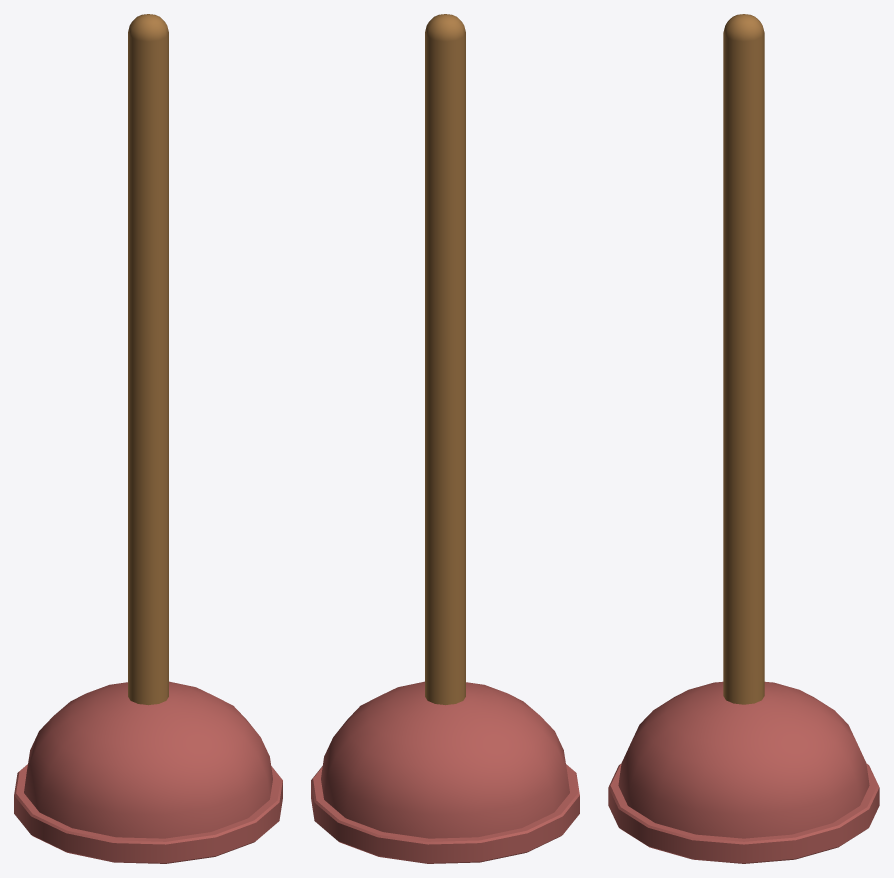
The model's file is Plunger_New.fbx.
The picture shows the model from 3 angles, left to right: view 1: azimuth 30°, elevation 25°; view 2: azimuth 150°, elevation 25°; view 3: azimuth 270°, elevation 25°; orthographic projection.
Parts seen in each view (by area): view 1: pSphere8; view 2: pSphere8; view 3: pSphere8.
Boxes of the visible parts, <box> form: pSphere8: <box>14,14,282,863</box>; pSphere8: <box>311,14,579,863</box>; pSphere8: <box>608,14,879,863</box>.
Size of the model in its own units: 54.02 by 174 by 54.02.
